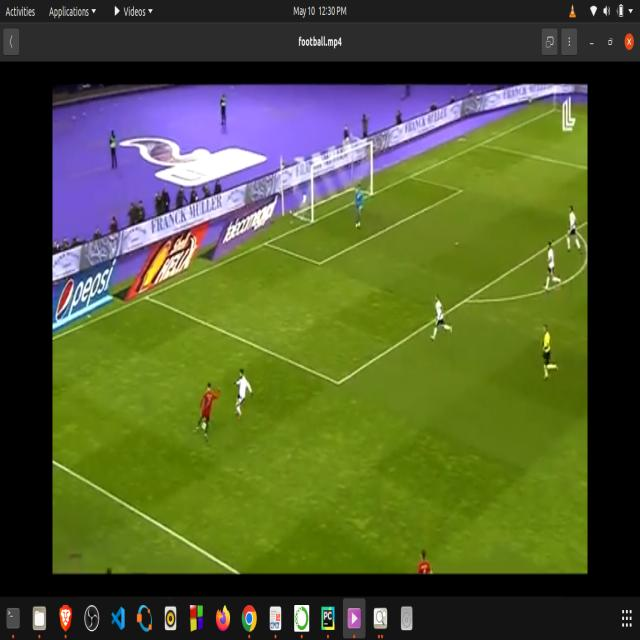Ball: (201, 420, 207, 430)
Goalkeeper: (353, 179, 365, 236)
Refree: (539, 322, 562, 383)
football-players: (429, 289, 456, 347), (541, 236, 563, 298), (196, 378, 217, 442), (233, 360, 253, 425), (565, 203, 586, 264), (418, 546, 434, 574)
